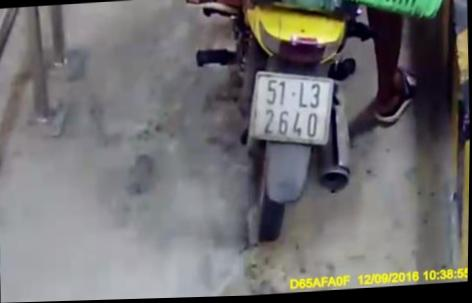LP: (247, 67, 337, 152)
